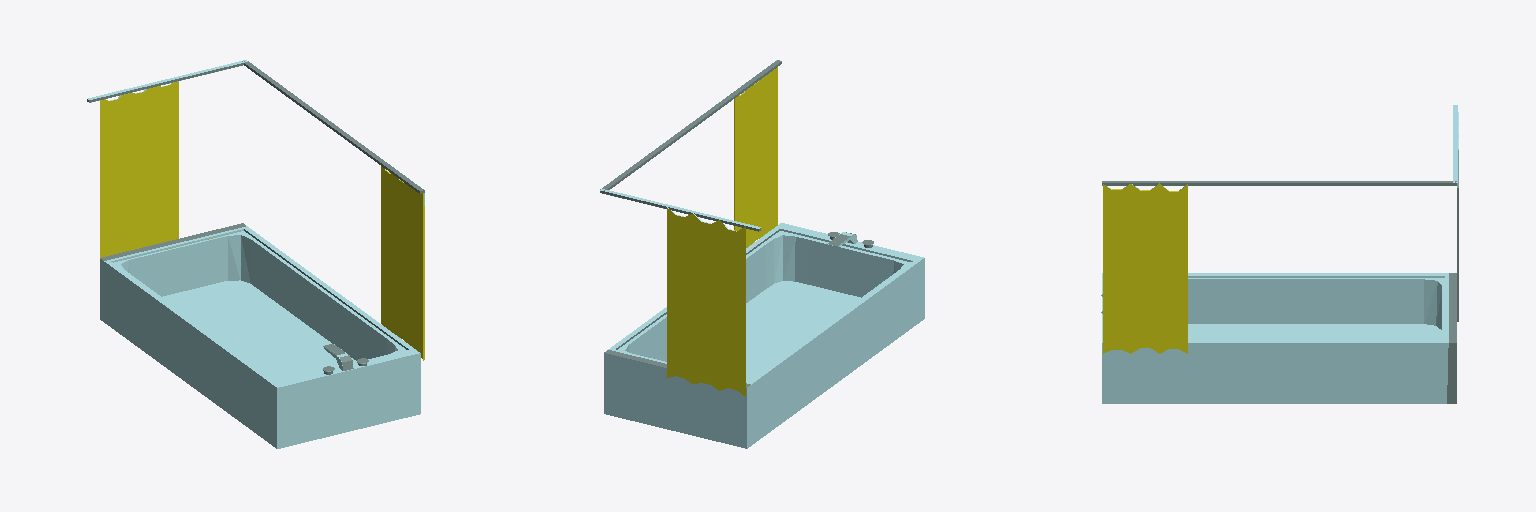
3 views of the same model, side by side, from view 1: azimuth 30°, elevation 25°; view 2: azimuth 150°, elevation 25°; view 3: azimuth 270°, elevation 25° (orthographic).
Visible parts, largest first — view 1: Cubo.001_Cubo.002; view 2: Cubo.001_Cubo.002; view 3: Cubo.001_Cubo.002.
Part boxes in pixels (bbox=[...]): Cubo.001_Cubo.002: bbox=[87, 60, 424, 448]; Cubo.001_Cubo.002: bbox=[600, 60, 924, 448]; Cubo.001_Cubo.002: bbox=[1101, 105, 1458, 403].
Bounding box in the file's own units: 15 × 20 × 29.
Materials: 1 (1 with a texture image).